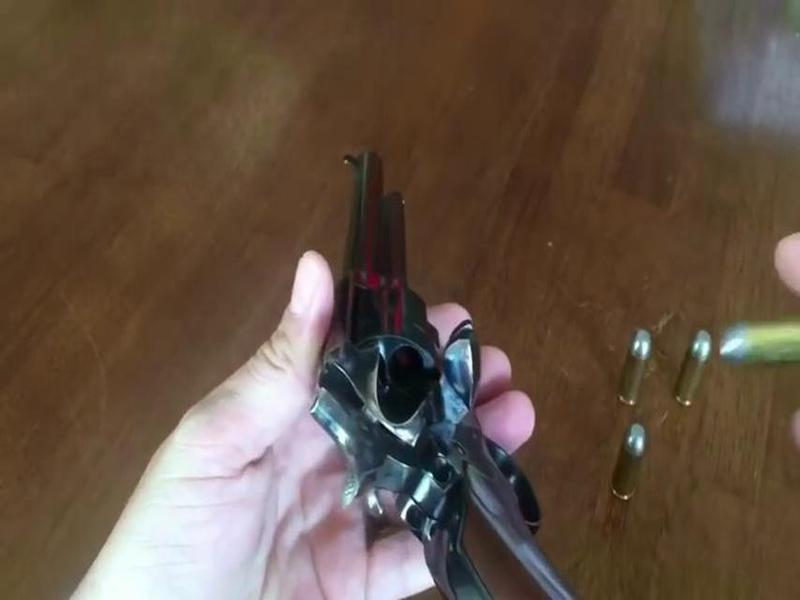Revolver: (302, 146, 534, 586)
